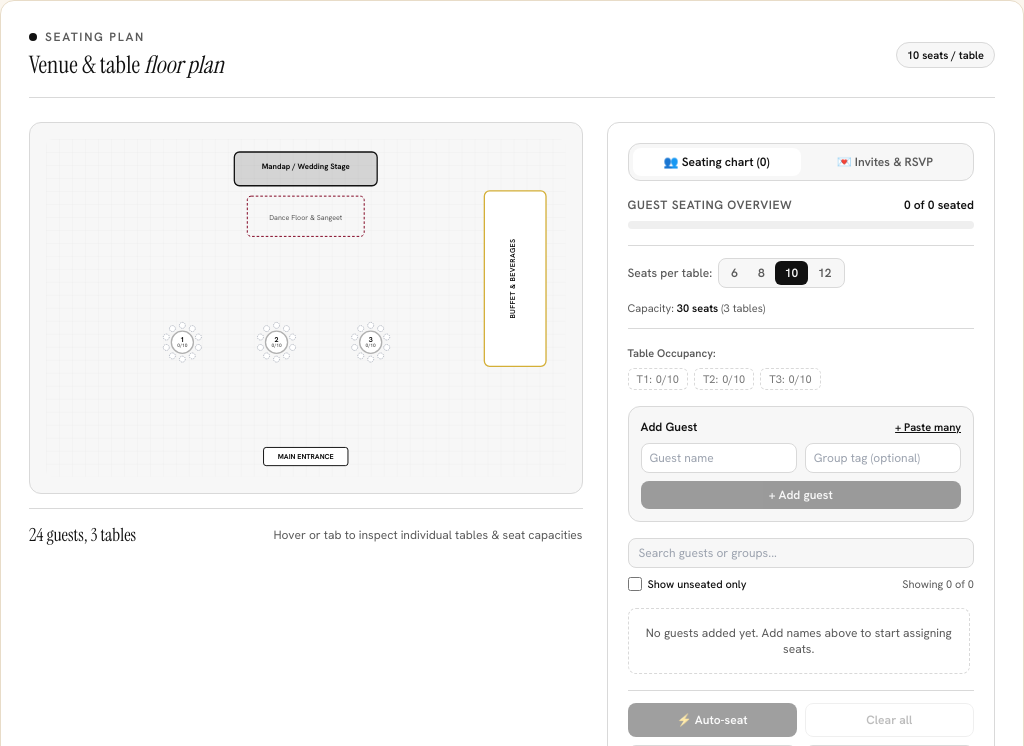
it: Seating Plan Component & Accessibility (Stages 2 & 3) › rebuilds table capacity when seats per table stepper is clicked
The width and height of the screenshot is (1024, 746).
Click the button named "Set 6 seats per table": (735, 273) [721, 261, 748, 285]
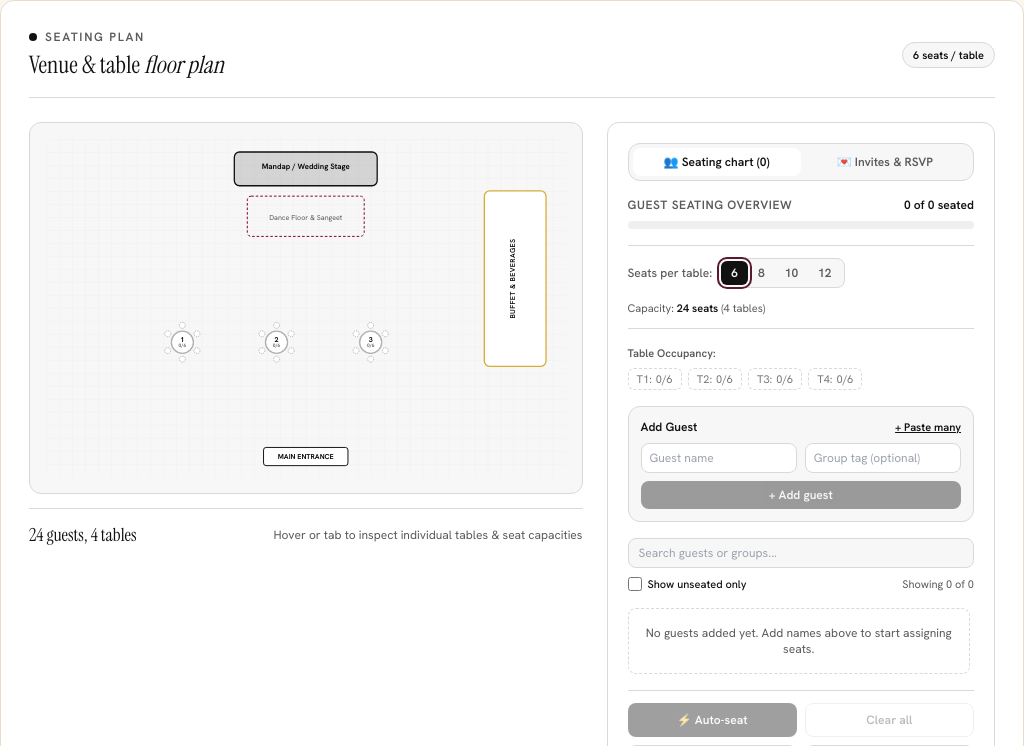
Expected: the text "6 seats / table" is shown, [902, 42, 995, 68]
Click the button named "Set 12 seats per table": (825, 273) [808, 261, 842, 285]
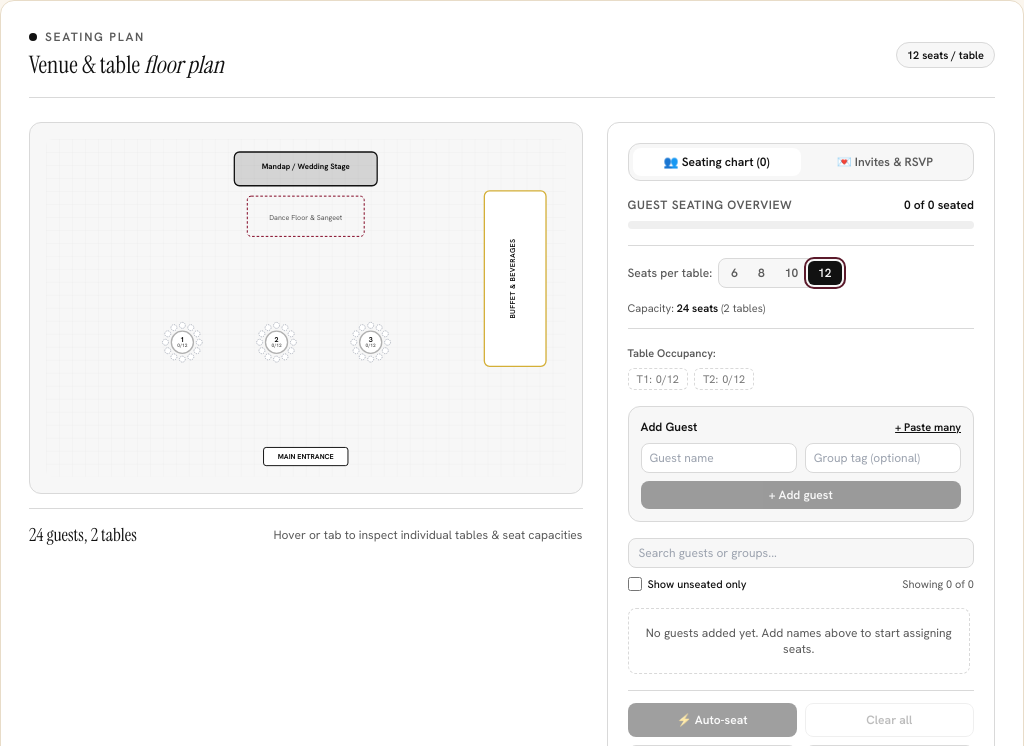
Expected: the text "12 seats / table" is shown, [896, 42, 995, 68]
